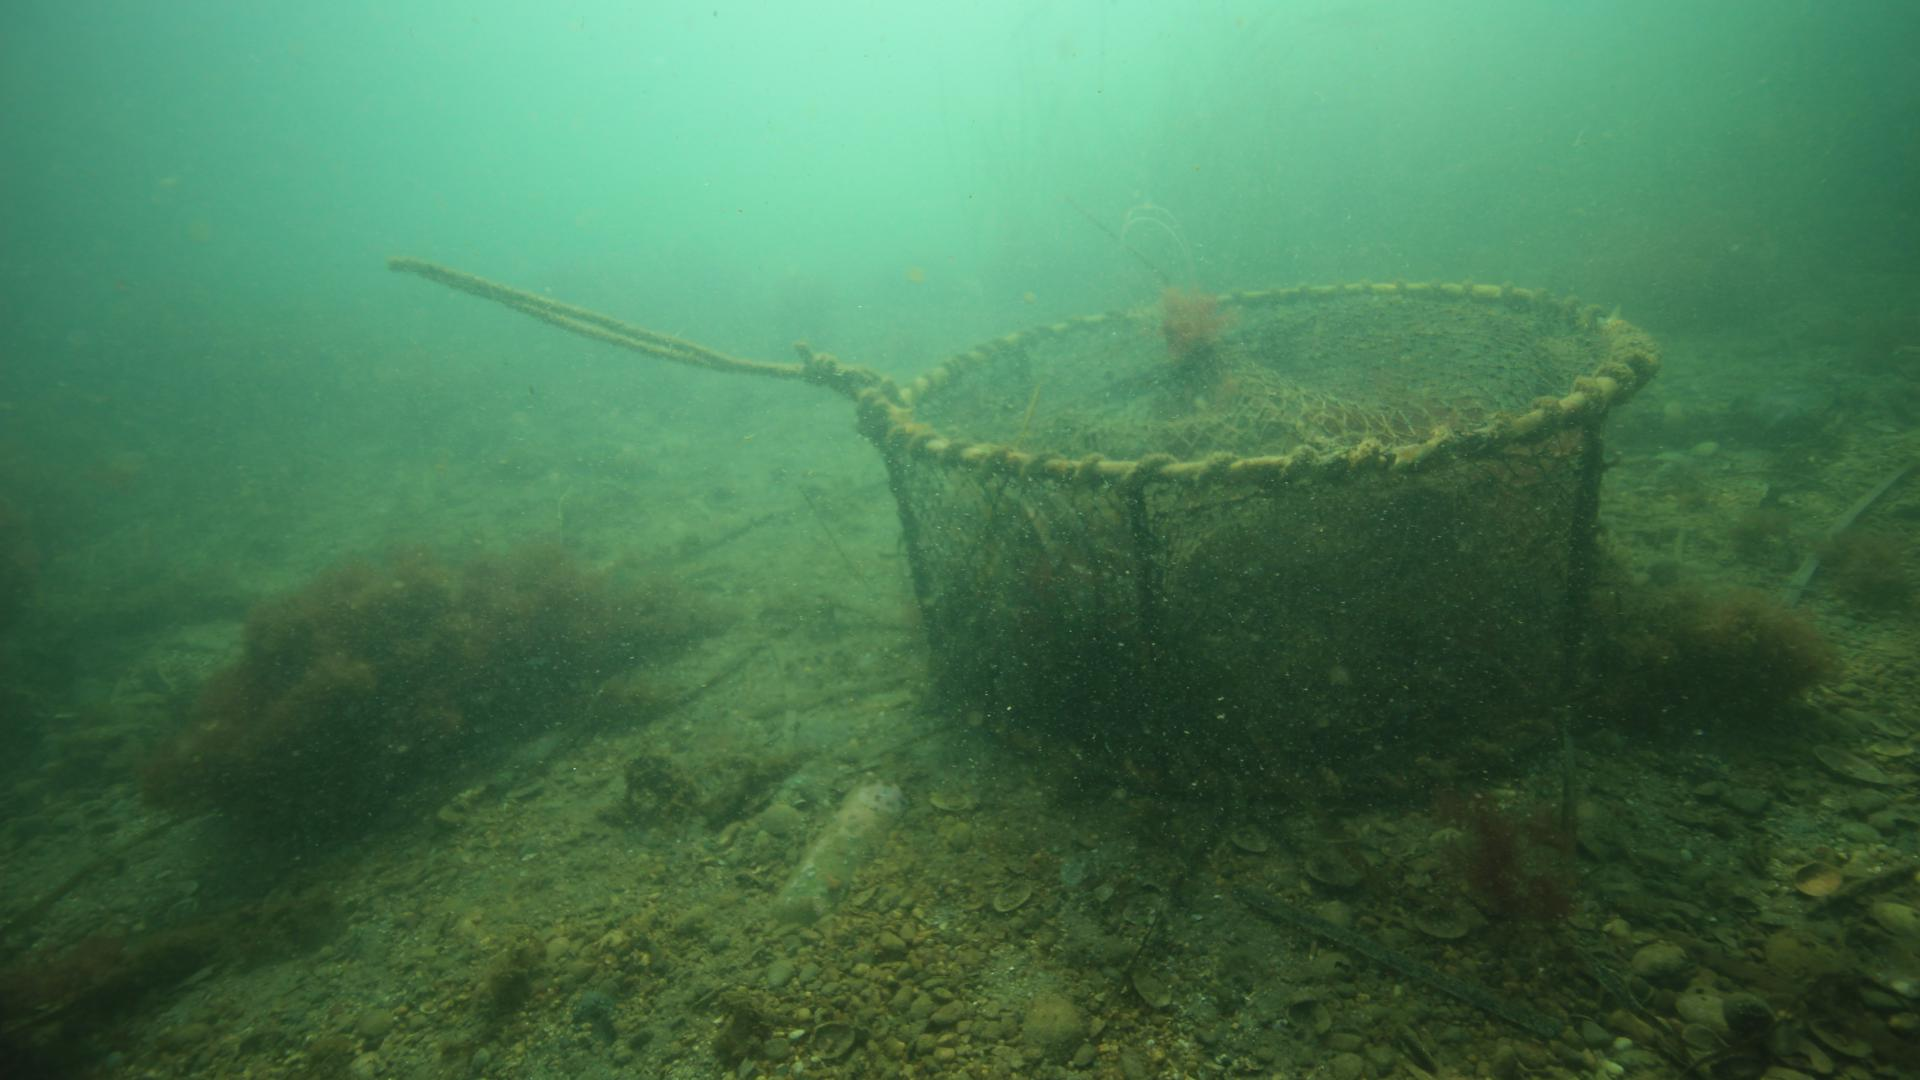circular fish trap: (857, 278, 1663, 803)
rope: (384, 255, 860, 392)
